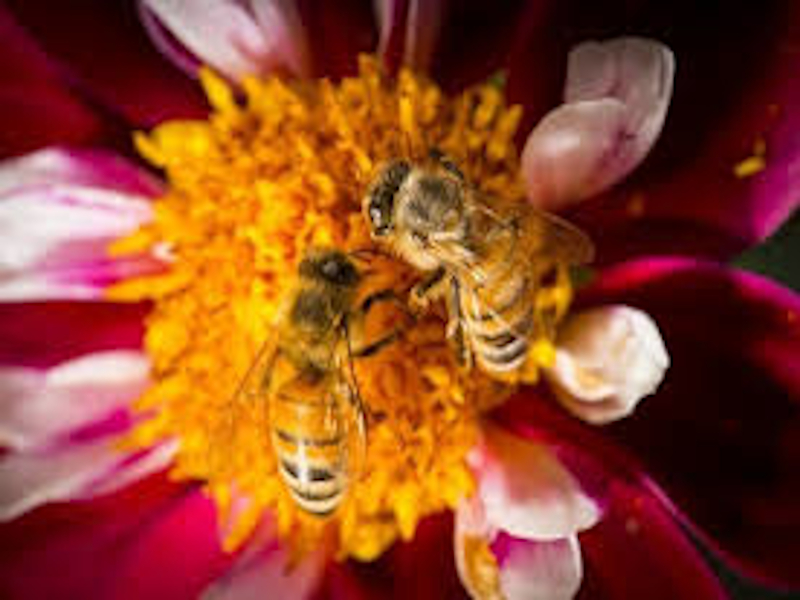abeja: (355, 142, 604, 428), (250, 230, 398, 567)
